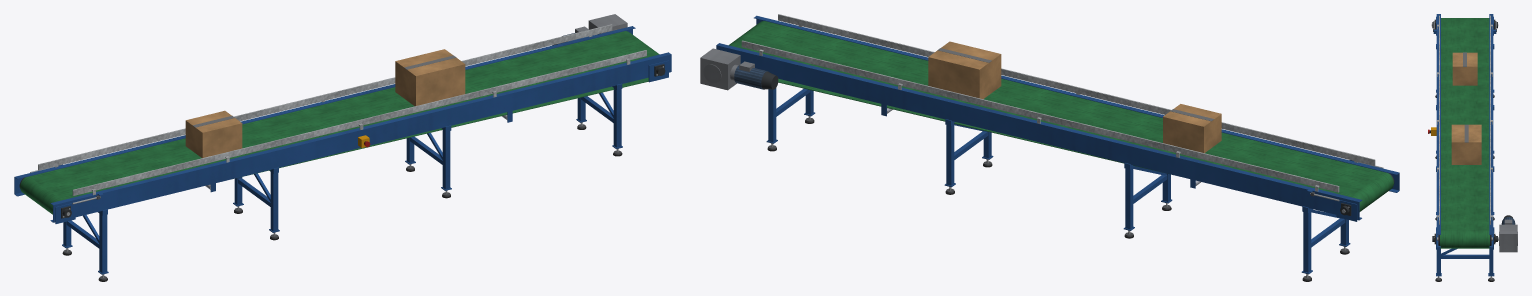
File: belt-conveyor-straight.glb
3 views of the same model, side by side, from view 1: azimuth 30°, elevation 25°; view 2: azimuth 150°, elevation 25°; view 3: azimuth 270°, elevation 25° (orthographic). The views are drawn at different scales.
Visible parts, largest first — view 1: Belt, Frame, Guide rails, Cartons, Stands, Drive, Feet; view 2: Belt, Frame, Guide rails, Cartons, Stands, Drive, Feet; view 3: Belt, Cartons, Frame, Stands, Drive, Guide rails, Bearings, Feet.
Boxes of the visible parts, <box> form: Belt: <box>20,31,659,214</box>; Frame: <box>14,26,671,223</box>; Guide rails: <box>38,24,646,195</box>; Cartons: <box>185,49,465,158</box>; Stands: <box>62,83,622,274</box>; Drive: <box>552,14,627,45</box>; Feet: <box>62,122,622,281</box>; Belt: <box>729,21,1393,211</box>; Frame: <box>716,15,1399,221</box>; Guide rails: <box>741,14,1375,192</box>; Cartons: <box>928,41,1221,153</box>; Stands: <box>766,88,1350,274</box>; Drive: <box>700,48,778,90</box>; Feet: <box>767,115,1349,281</box>; Belt: <box>1440,18,1489,248</box>; Cartons: <box>1451,52,1481,164</box>; Frame: <box>1433,14,1496,249</box>; Stands: <box>1436,44,1494,276</box>; Drive: <box>1499,215,1517,252</box>; Guide rails: <box>1437,15,1492,224</box>; Bearings: <box>1432,19,1497,244</box>; Feet: <box>1435,94,1494,281</box>.
Size of the model in its own units: 6.25 by 1.15 by 1.08.
Materials: 15 (15 with a texture image).
